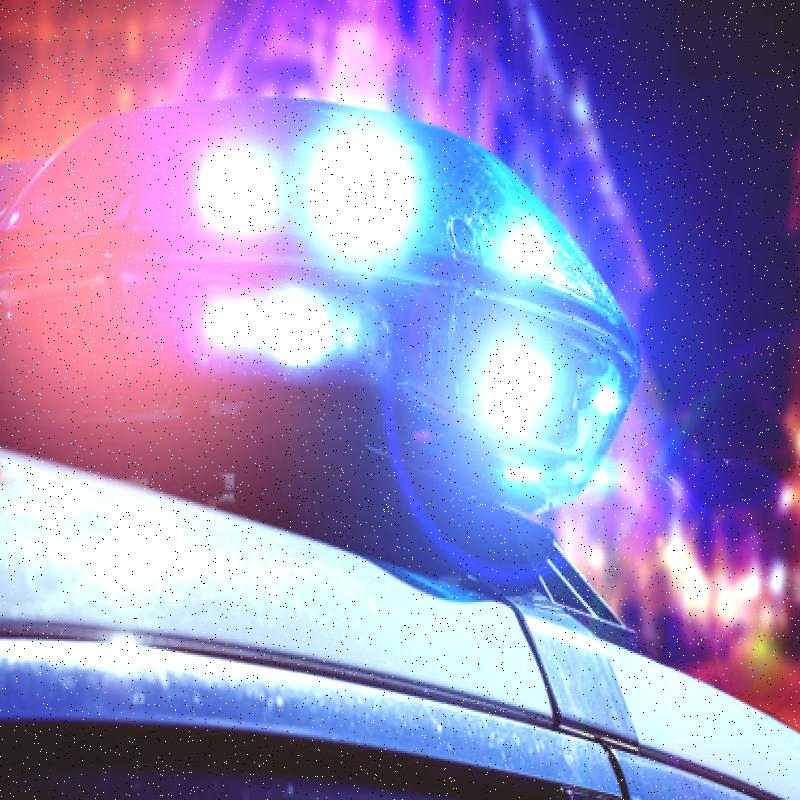AmbulanceSiren: (6, 77, 656, 520)
